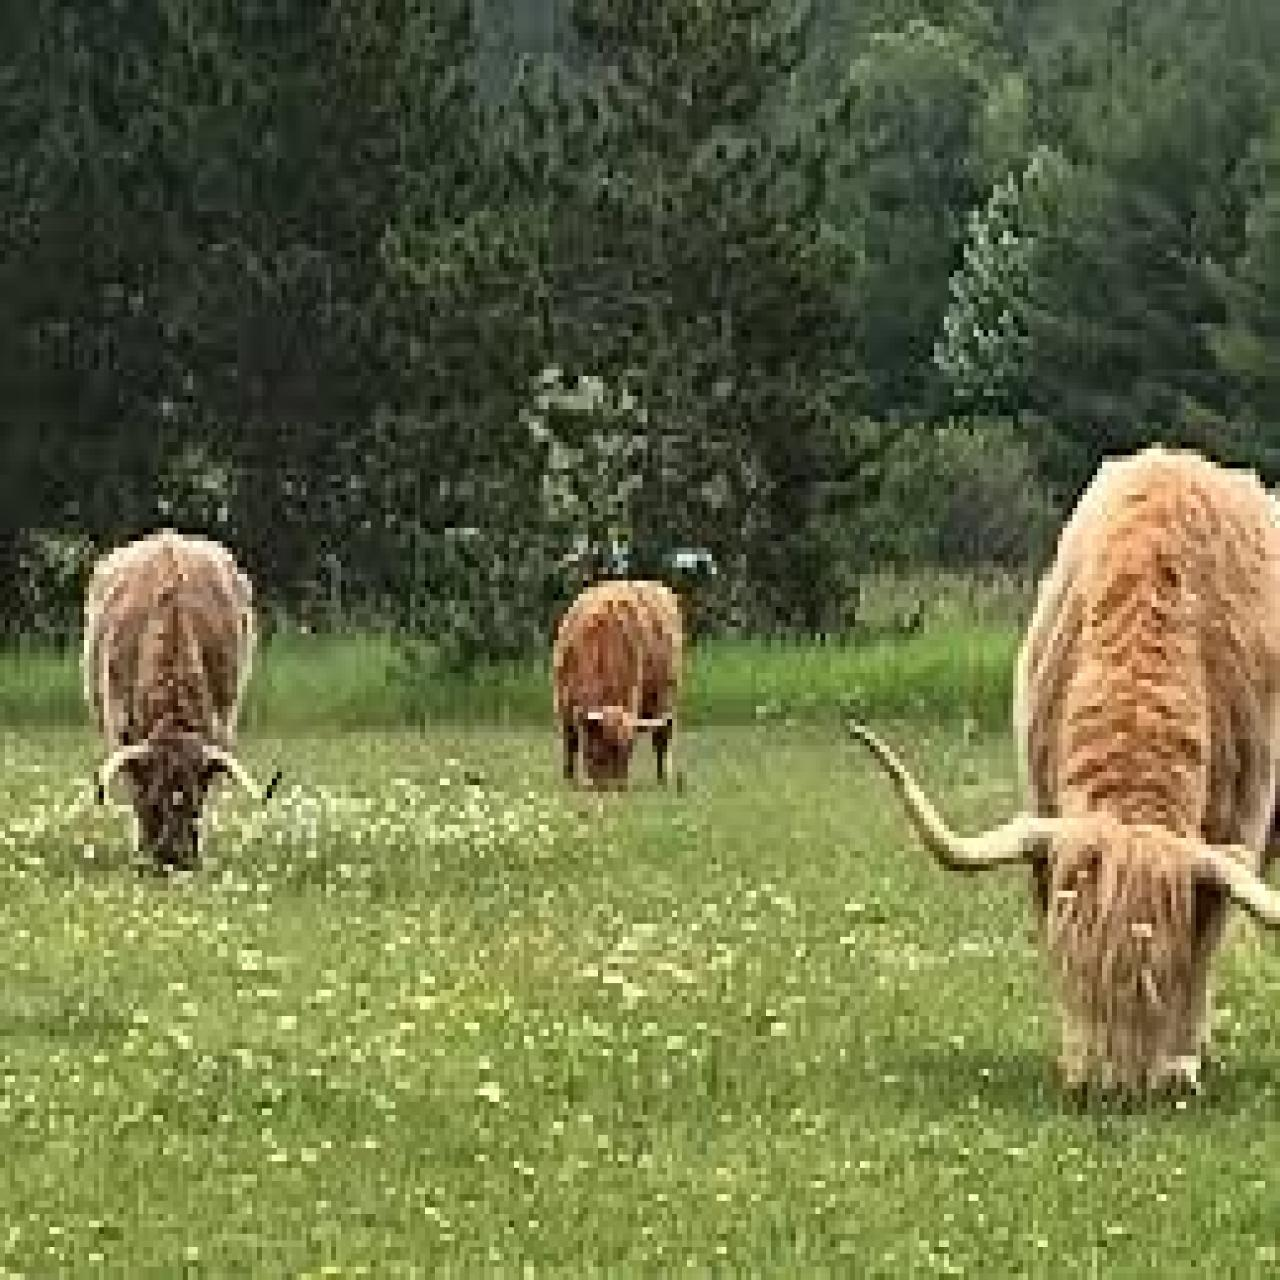cow: (845, 438, 1280, 1105), (76, 531, 285, 880), (551, 574, 685, 791)
